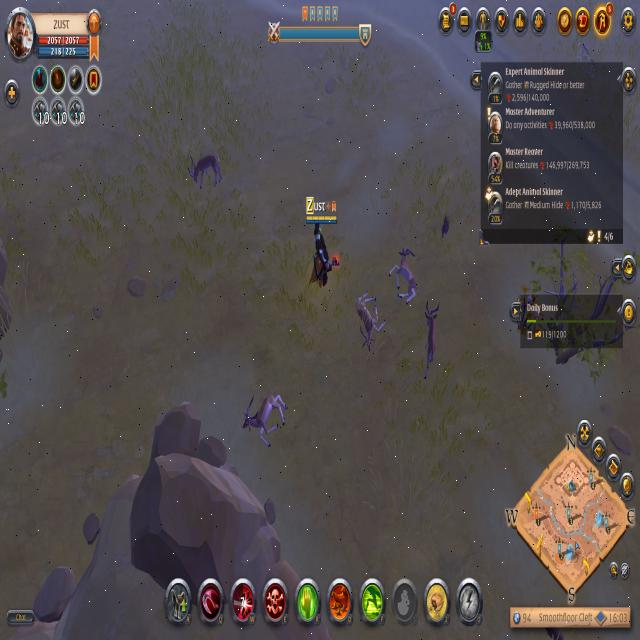deer_alive: (186, 146, 229, 202), (422, 299, 446, 386)
deer_dead: (237, 387, 293, 452), (349, 286, 391, 360), (386, 241, 423, 308)
